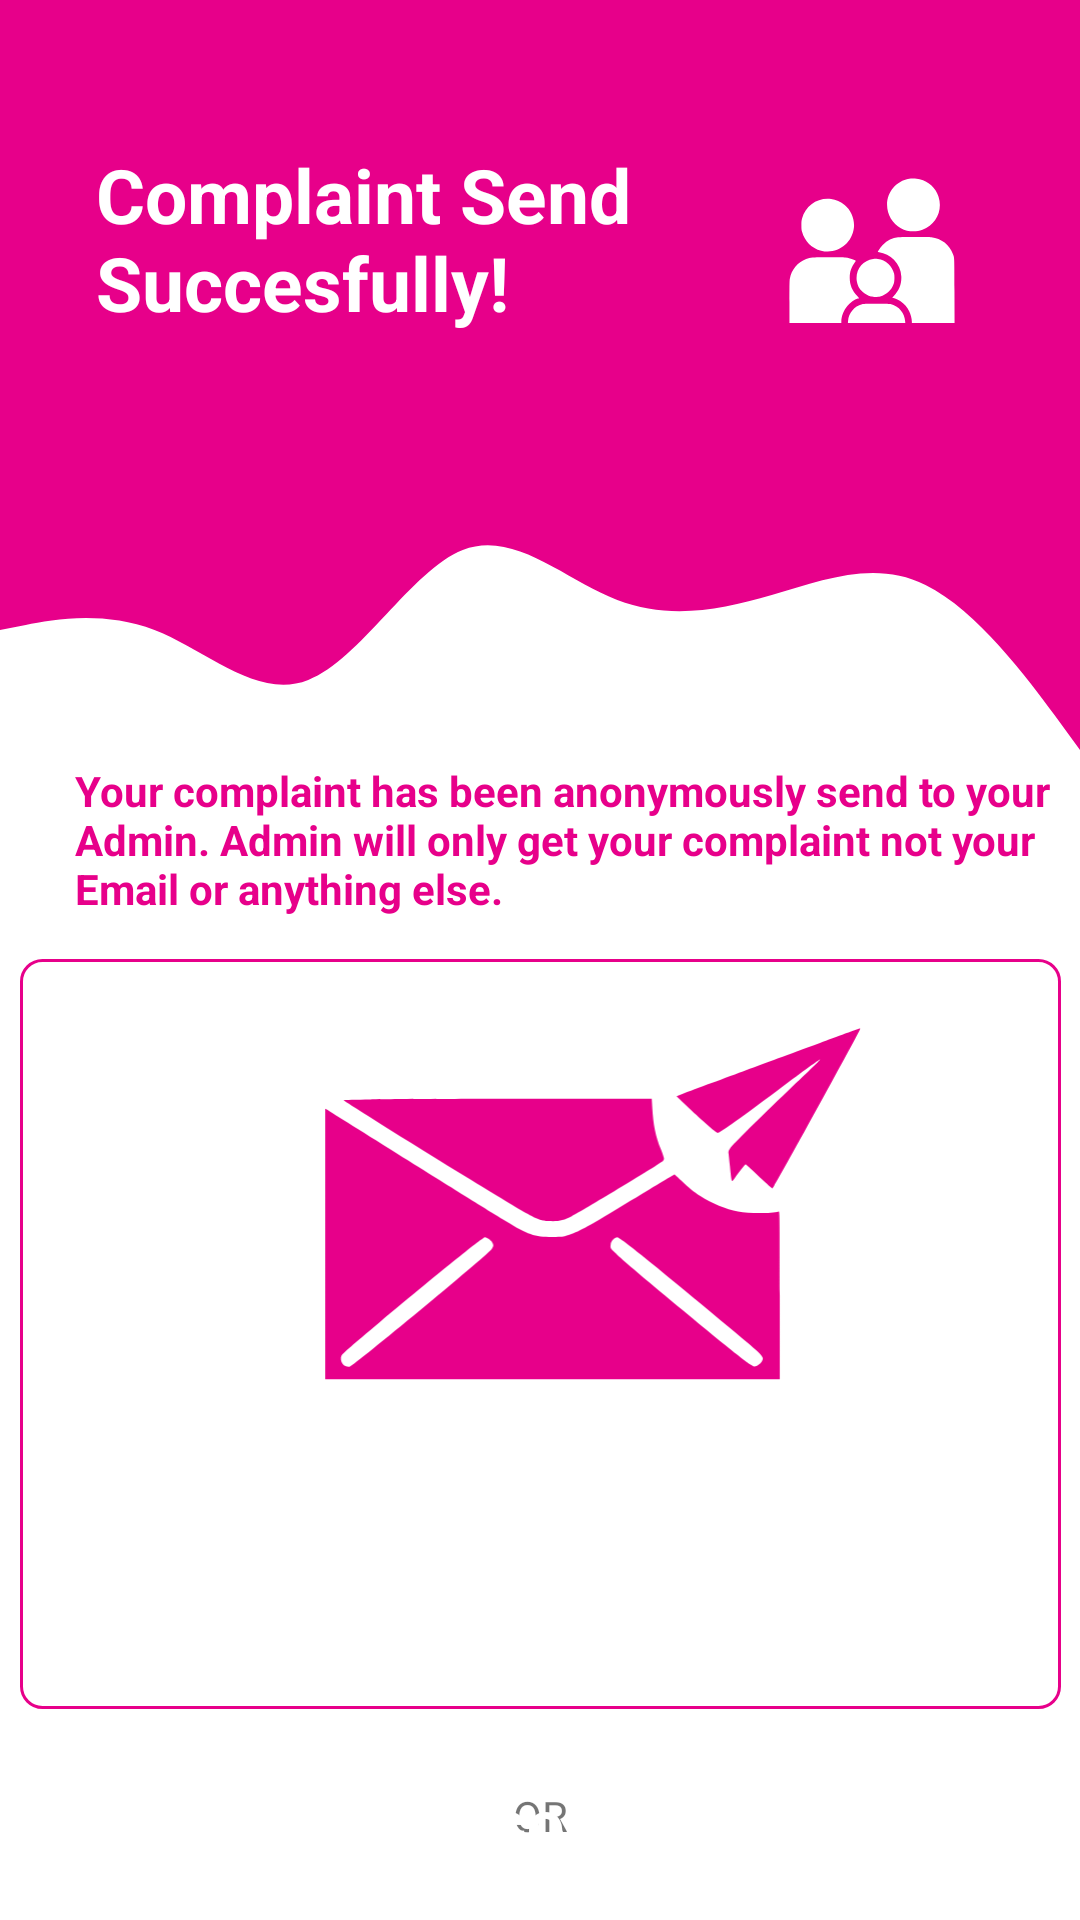

Screen size 1080*1920. Icon name, then its box in pixels as (left=x1, top=y1, right=x2, bottom=y2):
vect parent login signup: (left=789, top=178, right=955, bottom=323)
